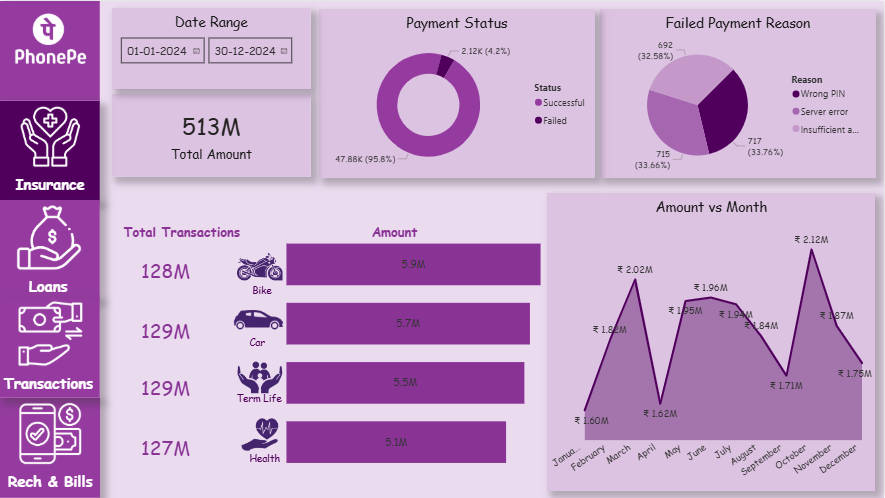

Layout of this report page (visuals, bound fields, positions):
{"tool":"powerbi","page":{"name":"Insurance","canvas":[1280,720],"ordinal":1},"visuals":[{"type":"shape","box":[0,0,144.6,144.6],"z":0,"group":"g1"},{"type":"slicer","title":"Date Range","fields":{"Values":["Insurance.Date"]},"box":[161.6,10.3,288,117.6],"z":0},{"type":"card","title":"Date Range","fields":{"Values":["Sum(Insurance.Premium)"]},"box":[161.7,135,288.3,120],"z":1000},{"type":"shape","box":[0,144.6,144.6,144.6],"z":1000,"group":"g2"},{"type":"pieChart","title":"Failed Payment Reason","fields":{"Category":["Insurance.Reason"],"Y":["CountNonNull(Insurance.Reason)"]},"box":[869.9,11.8,399.7,245.4],"z":2000},{"type":"shape","box":[0,287.7,144.6,143.1],"z":2000,"group":"g3"},{"type":"areaChart","title":"Amount vs Month","fields":{"Category":["Insurance.Date.Variation.Date Hierarchy.Month"],"Y":["Sum(Insurance.Premium)"]},"box":[792.8,278,476.2,432.2],"z":3000},{"type":"shape","box":[0,430.8,144.6,144.6],"z":3000,"group":"g4"},{"type":"group","id":"g1","title":"Group 1","box":[0,0,144.6,144.6],"z":4000},{"type":"image","box":[16.9,0,110.8,115.4],"z":5000,"group":"g1"},{"type":"shape","box":[0,575.4,145.1,144.6],"z":5000},{"type":"group","id":"g2","title":"Group 2","box":[0,144.6,145,145.4],"z":6000},{"type":"image","box":[16.9,144.6,110.8,103],"z":6000,"group":"g2"},{"type":"group","id":"g3","title":"Group 3","box":[0,287.7,145,155.6],"z":7000},{"type":"image","box":[16.9,289.2,110.8,103.1],"z":7000,"group":"g3"},{"type":"group","id":"g4","title":"Group 4","box":[0,430.8,161.5,144.6],"z":8000},{"type":"image","box":[16.9,430.8,110.8,103.1],"z":8000,"group":"g4"},{"type":"image","box":[17,575.4,111.1,103],"z":9000},{"type":"textbox","box":[16.7,245,128.3,45],"z":10000,"group":"g2"},{"type":"actionButton","box":[0,288.3,145,143.3],"z":10000},{"type":"textbox","box":[16.7,391.7,128.3,51.7],"z":11000,"group":"g3"},{"type":"actionButton","box":[0,431.7,145,143.3],"z":11000},{"type":"textbox","box":[0,533.9,161.5,41.5],"z":12000,"group":"g4"},{"type":"actionButton","box":[0,576.7,145,143.3],"z":12000},{"type":"donutChart","title":" Payment Status","fields":{"Category":["Insurance.Payment_Status"],"Y":["CountNonNull(Insurance.Payment_Status)"]},"box":[461.7,11.7,400,245],"z":13000},{"type":"textbox","box":[0,675.4,145.1,44.6],"z":14000},{"type":"clusteredBarChart","title":"Date vs Amount","fields":{"Category":["Insurance.Insurance_Type"],"Y":["Sum(Insurance.Premium)"]},"box":[410,340.9,417.3,338],"z":15000},{"type":"image","box":[343.3,352.2,65.7,65.7],"z":16000},{"type":"image","box":[337.3,431.3,76.1,58.2],"z":17000},{"type":"image","box":[343.3,514.9,65.7,61.2],"z":18000},{"type":"image","box":[343.3,594,65.7,68.7],"z":19000},{"type":"textbox","box":[173.8,315.4,196.9,44.6],"z":20000},{"type":"card","title":"Date Range","fields":{"Values":["Sum(Insurance.Premium)"]},"box":[173.8,360,132.3,64.6],"z":21000},{"type":"card","title":"Date Range","fields":{"Values":["Sum(Insurance.Premium)"]},"box":[173.8,446.2,132.3,64.6],"z":22000},{"type":"card","title":"Date Range","fields":{"Values":["Sum(Insurance.Premium)"]},"box":[173.8,529.2,132.3,64.6],"z":23000},{"type":"actionButton","box":[0,0,145.5,145.5],"z":24000},{"type":"card","title":"Date Range","fields":{"Values":["Sum(Insurance.Premium)"]},"box":[173.8,615.4,132.3,64.6],"z":25000},{"type":"textbox","box":[464.6,315.4,196.9,44.6],"z":26000},{"type":"textbox","box":[331.3,404.5,95.5,32.8],"z":27000},{"type":"textbox","box":[356.7,479.1,70.1,31.3],"z":28000},{"type":"textbox","box":[356.7,647.8,70.1,31.3],"z":29000},{"type":"textbox","box":[337.3,561.2,89.6,32.8],"z":30000}]}

Visuals, with their boxes in screenshot pixels (x1, y1, x2, y2), scaled from the page's 1280x720 canvas onto the 885x498 screenshot:
shape: left=0, top=0, right=100, bottom=100
"Date Range" slicer: left=112, top=7, right=311, bottom=88
"Date Range" card: left=112, top=93, right=311, bottom=176
shape: left=0, top=100, right=100, bottom=200
"Failed Payment Reason" pieChart: left=601, top=8, right=878, bottom=178
shape: left=0, top=199, right=100, bottom=298
"Amount vs Month" areaChart: left=548, top=192, right=877, bottom=491
shape: left=0, top=298, right=100, bottom=398
"Group 1" group: left=0, top=0, right=100, bottom=100
image: left=12, top=0, right=88, bottom=80
shape: left=0, top=398, right=100, bottom=497
"Group 2" group: left=0, top=100, right=100, bottom=201
image: left=12, top=100, right=88, bottom=171
"Group 3" group: left=0, top=199, right=100, bottom=307
image: left=12, top=200, right=88, bottom=271
"Group 4" group: left=0, top=298, right=112, bottom=398
image: left=12, top=298, right=88, bottom=369
image: left=12, top=398, right=89, bottom=469
textbox: left=12, top=169, right=100, bottom=201
actionButton: left=0, top=199, right=100, bottom=299
textbox: left=12, top=271, right=100, bottom=307
actionButton: left=0, top=299, right=100, bottom=398
textbox: left=0, top=369, right=112, bottom=398
actionButton: left=0, top=399, right=100, bottom=497
" Payment Status" donutChart: left=319, top=8, right=596, bottom=178
textbox: left=0, top=467, right=100, bottom=497
"Date vs Amount" clusteredBarChart: left=283, top=236, right=572, bottom=470
image: left=237, top=244, right=283, bottom=289
image: left=233, top=298, right=286, bottom=339
image: left=237, top=356, right=283, bottom=398
image: left=237, top=411, right=283, bottom=458
textbox: left=120, top=218, right=256, bottom=249
"Date Range" card: left=120, top=249, right=212, bottom=294
"Date Range" card: left=120, top=309, right=212, bottom=353
"Date Range" card: left=120, top=366, right=212, bottom=411
actionButton: left=0, top=0, right=101, bottom=101
"Date Range" card: left=120, top=426, right=212, bottom=470
textbox: left=321, top=218, right=457, bottom=249
textbox: left=229, top=280, right=295, bottom=302
textbox: left=247, top=331, right=295, bottom=353
textbox: left=247, top=448, right=295, bottom=470
textbox: left=233, top=388, right=295, bottom=411
